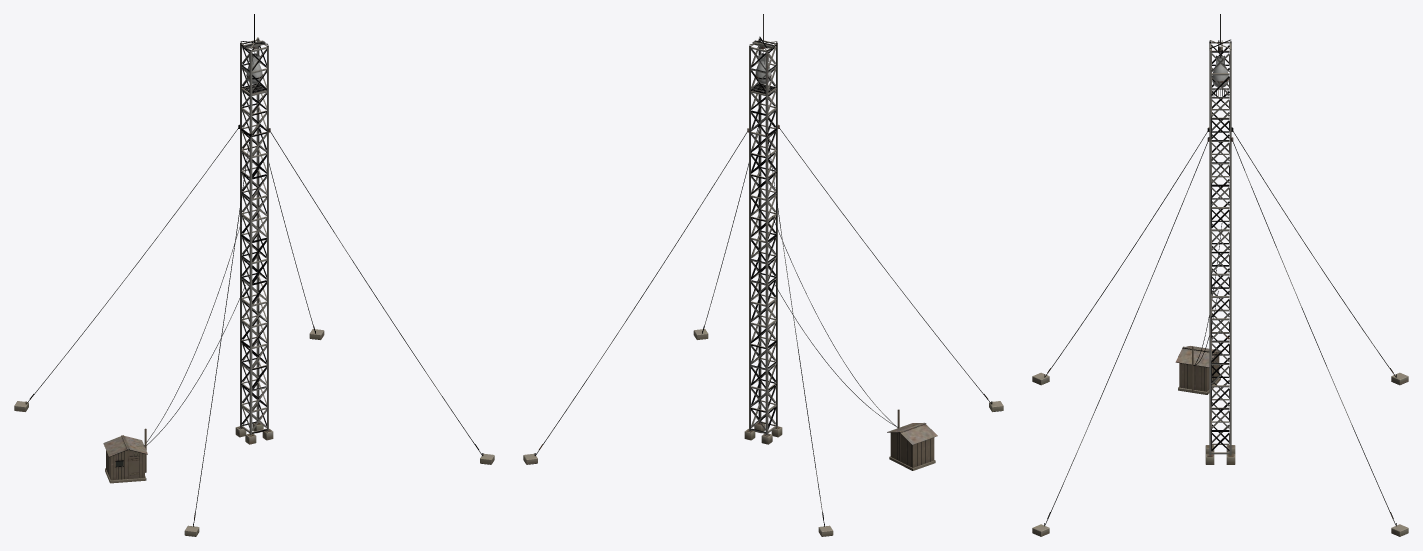
File: shot_tower.glb
3 renders of one model, left to right at view 1: azimuth 30°, elevation 25°; view 2: azimuth 150°, elevation 25°; view 3: azimuth 270°, elevation 25°, orthographic. The views are drawn at different scales.
Visible parts, largest first — view 1: shot_tower; view 2: shot_tower; view 3: shot_tower.
Boxes of the visible parts, x1=… form: shot_tower: x1=14, y1=14, x2=494, y2=536; shot_tower: x1=523, y1=14, x2=1003, y2=536; shot_tower: x1=1032, y1=14, x2=1408, y2=536.
Size of the model in its own units: 27.18 by 34.89 by 26.73.
4 materials, 4 textured.
